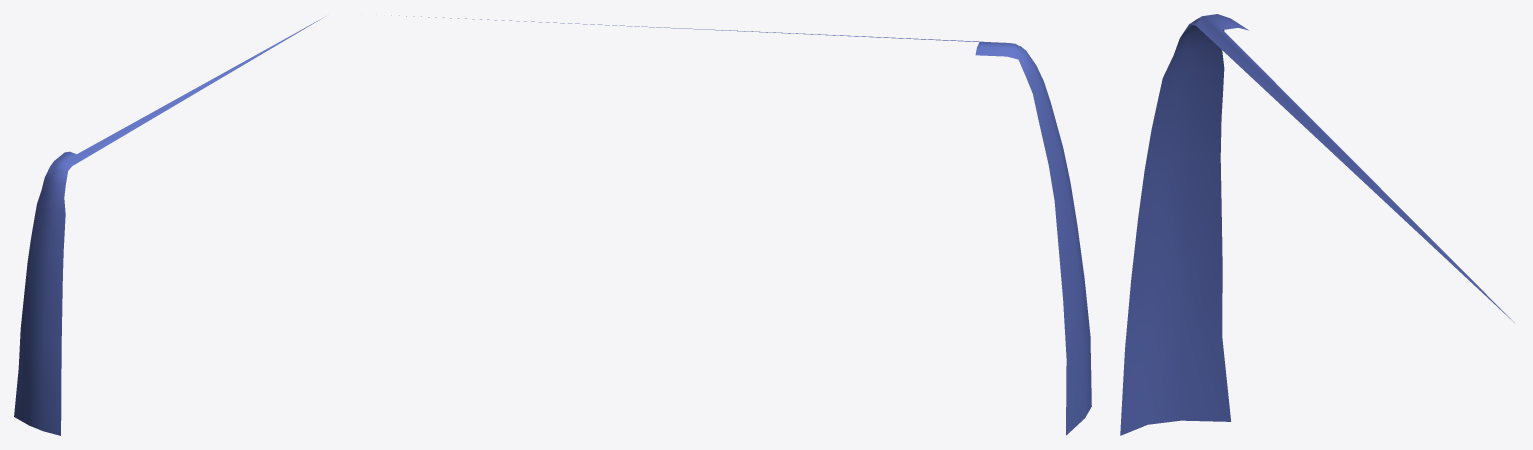
The model's file is cluster_23.fbx.
3 views of the same model, side by side, from view 1: azimuth 30°, elevation 25°; view 2: azimuth 150°, elevation 25°; view 3: azimuth 270°, elevation 25° (orthographic). The views are drawn at different scales.
Parts seen in each view (by area): view 1: cluster_23; view 2: cluster_23; view 3: cluster_23.
Boxes of the visible parts, <box> form: cluster_23: <box>14,16,325,435</box>; cluster_23: <box>391,15,1091,435</box>; cluster_23: <box>1120,14,1514,435</box>.
Size of the model in its own units: 476981 by 286943 by 233090.
